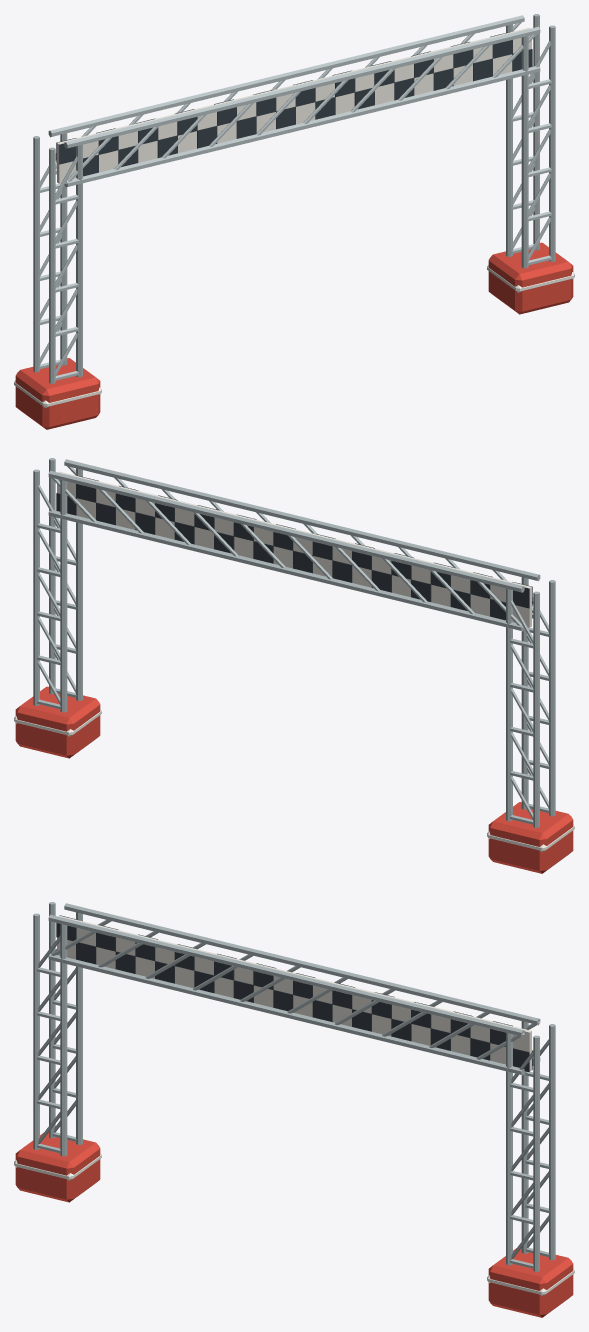
Rendered from start_gantry.glb.
The picture shows the model from 3 angles, top to bottom: view 1: azimuth 30°, elevation 25°; view 2: azimuth 150°, elevation 25°; view 3: azimuth 330°, elevation 25°; orthographic projection.
Parts seen in each view (by area): view 1: Body.014; view 2: Body.014; view 3: Body.014.
Part boxes in pixels (bbox=[...]): Body.014: bbox=[14, 14, 574, 429]; Body.014: bbox=[14, 458, 574, 873]; Body.014: bbox=[14, 902, 574, 1317].
Bounding box in the file's own units: 8.21 × 4.1 × 0.86.
